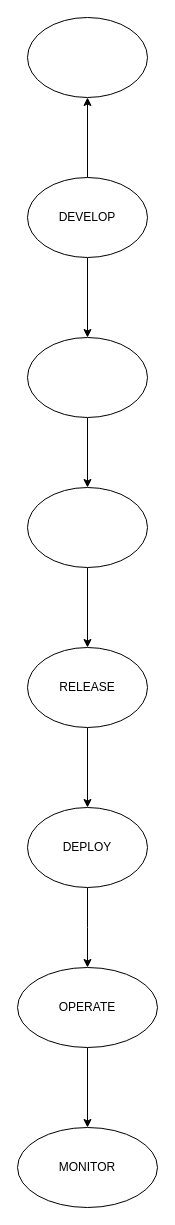
This 175x1225 diagram has some shape labels left out. The centre of each missing label's shape, as x and y in pixels:
"BUILD" goes at point 87,377.
"PLAN" goes at point 87,57.
"TEXT" goes at point 87,527.
